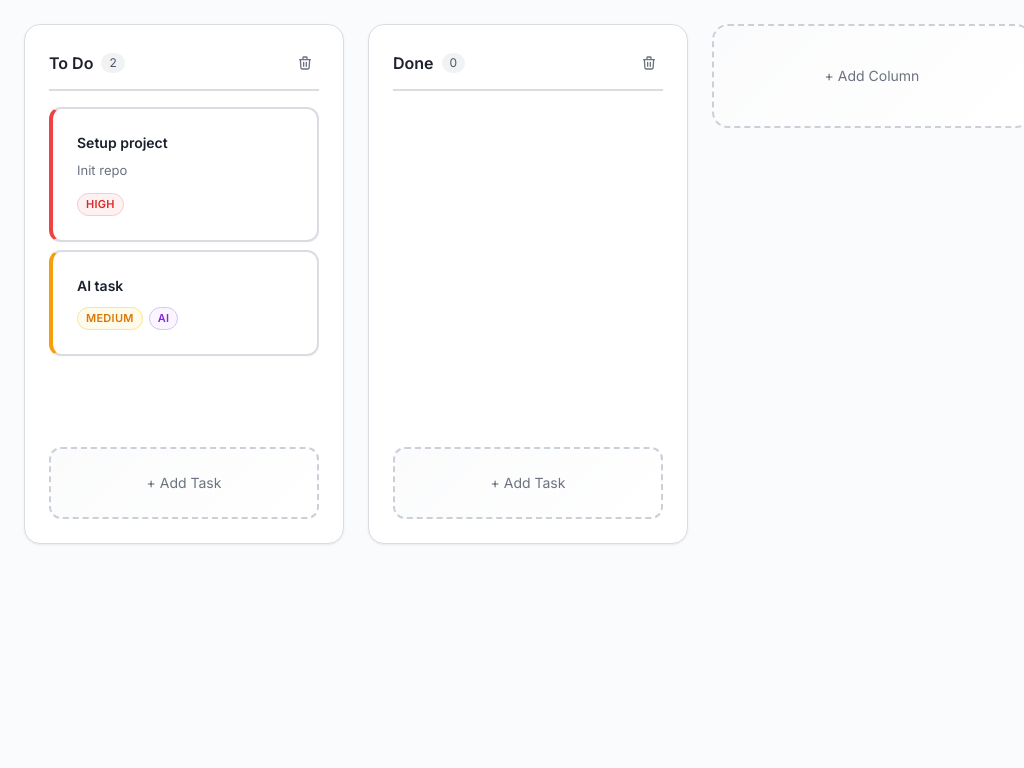
Test case: Board › opens task details modal on task click
What coordinates should you click on to do the following:
click the text "Setup project"
I would click on:
 (122, 142)
Its box is [77,134,168,151].
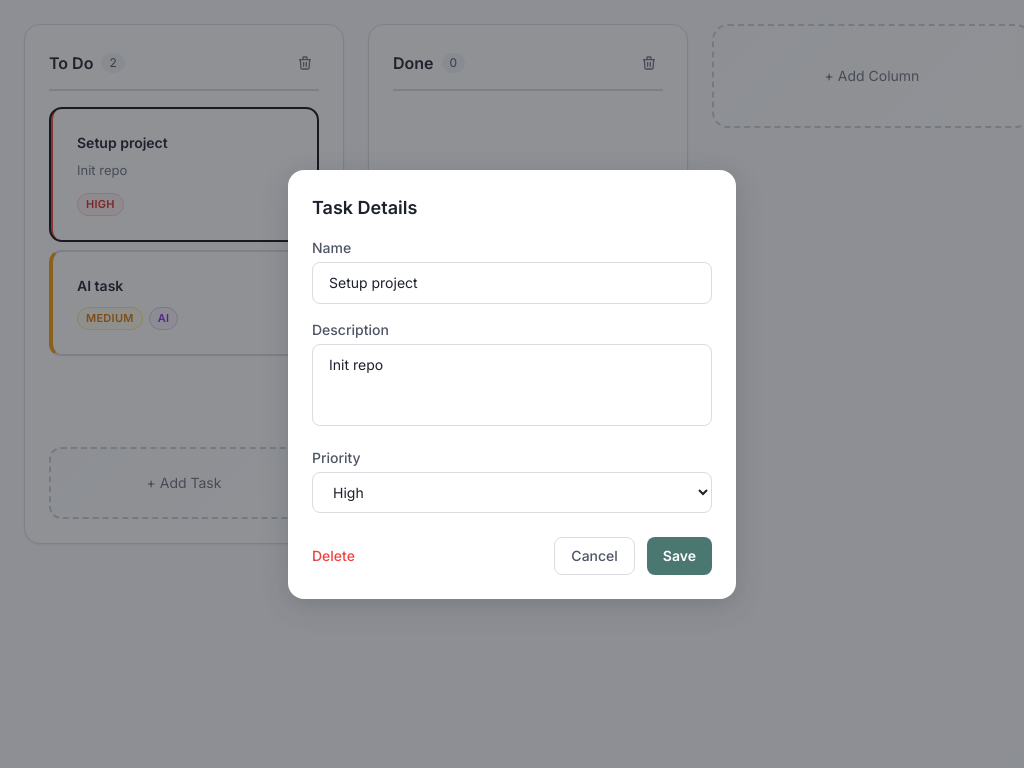
Expected: the heading "Task Details" is shown, [312,196,417,218]
